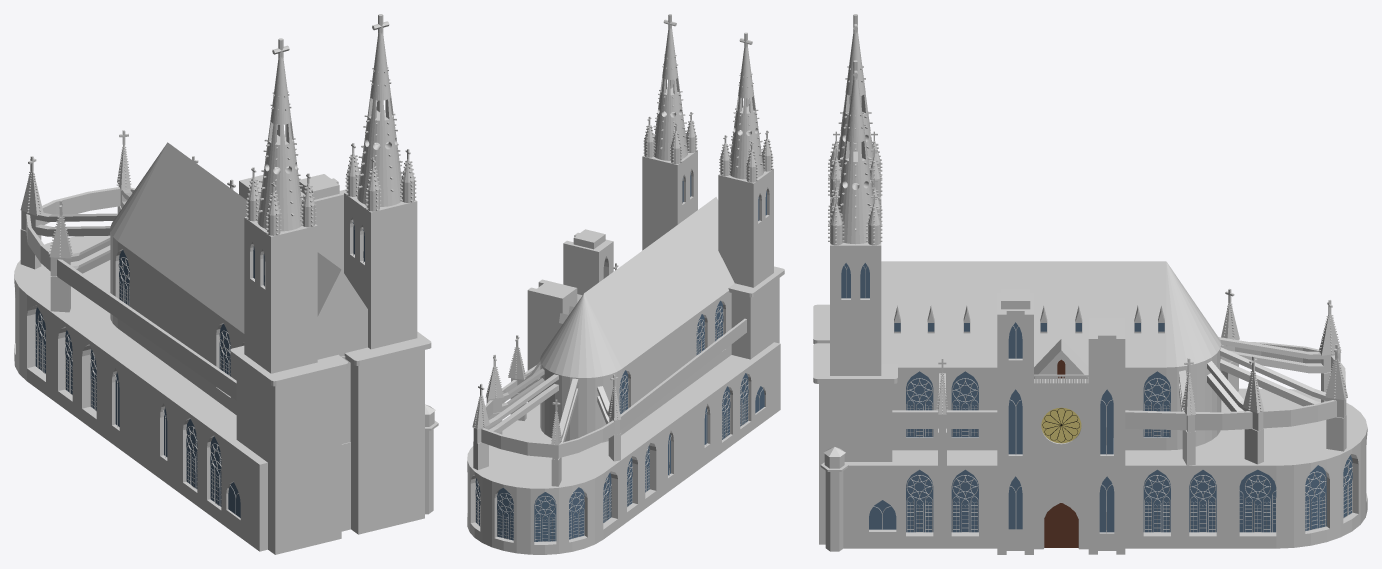
The model's file is Cathedral.fbx.
The picture shows the model from 3 angles, left to right: view 1: azimuth 30°, elevation 25°; view 2: azimuth 150°, elevation 25°; view 3: azimuth 270°, elevation 25°; orthographic projection. The views are drawn at different scales.
Visible parts, largest first — view 1: GroundFloorEnd, RoofEnd, Cube.017, Cube.016, Tower.001, Tower.000, FirstFloor, Cube.020, Cone.001, Cone, Cube, Cube.014 (+11 smaller); view 2: GroundFloorEnd, RoofEnd, FirstFloor, Tower.001, Cube.020, Tower.000, Cube.017, Tower.003, Cube, Cone, Cone.001, Cube.013 (+12 smaller); view 3: GroundFloorEnd, RoofEnd, FirstFloor, Cube, Tower.003, Tower.004, Tower.000, Cube.016, Cube.020, Cone.001, Cube.013, Plane.018 (+26 smaller).
Boxes of the visible parts, x1,y1,x2,y2 form: GroundFloorEnd: [14, 235, 350, 551]; RoofEnd: [110, 142, 367, 359]; Cube.017: [236, 361, 341, 554]; Cube.016: [350, 350, 424, 534]; Tower.001: [244, 216, 317, 373]; Tower.000: [344, 192, 417, 349]; FirstFloor: [110, 232, 350, 443]; Cube.020: [26, 187, 236, 400]; Cone.001: [357, 32, 401, 206]; Cone: [257, 57, 302, 231]; Cube: [299, 174, 346, 272]; Cube.014: [20, 210, 117, 269]; GroundFloorEnd: [467, 342, 780, 554]; RoofEnd: [540, 197, 734, 377]; FirstFloor: [540, 290, 731, 442]; Tower.001: [718, 168, 773, 287]; Cube.020: [481, 318, 746, 457]; Tower.000: [642, 150, 697, 250]; Cube.017: [731, 278, 779, 359]; Tower.003: [527, 279, 577, 402]; Cube: [563, 229, 613, 295]; Cone: [730, 46, 763, 179]; Cone.001: [654, 28, 687, 160]; Cube.013: [473, 374, 558, 469]; GroundFloorEnd: [843, 388, 1367, 548]; RoofEnd: [881, 261, 1221, 367]; FirstFloor: [892, 345, 1221, 450]; Cube: [997, 288, 1033, 554]; Tower.003: [1088, 317, 1125, 554]; Tower.004: [1034, 379, 1088, 549]; Tower.000: [830, 227, 881, 375]; Cube.016: [819, 384, 892, 544]; Cube.020: [1125, 342, 1345, 430]; Cone.001: [837, 78, 873, 244]; Cube.013: [1220, 347, 1346, 451]; Plane.018: [1239, 469, 1276, 532].
Size of the model in its own units: 2169 by 5703 by 6062.
